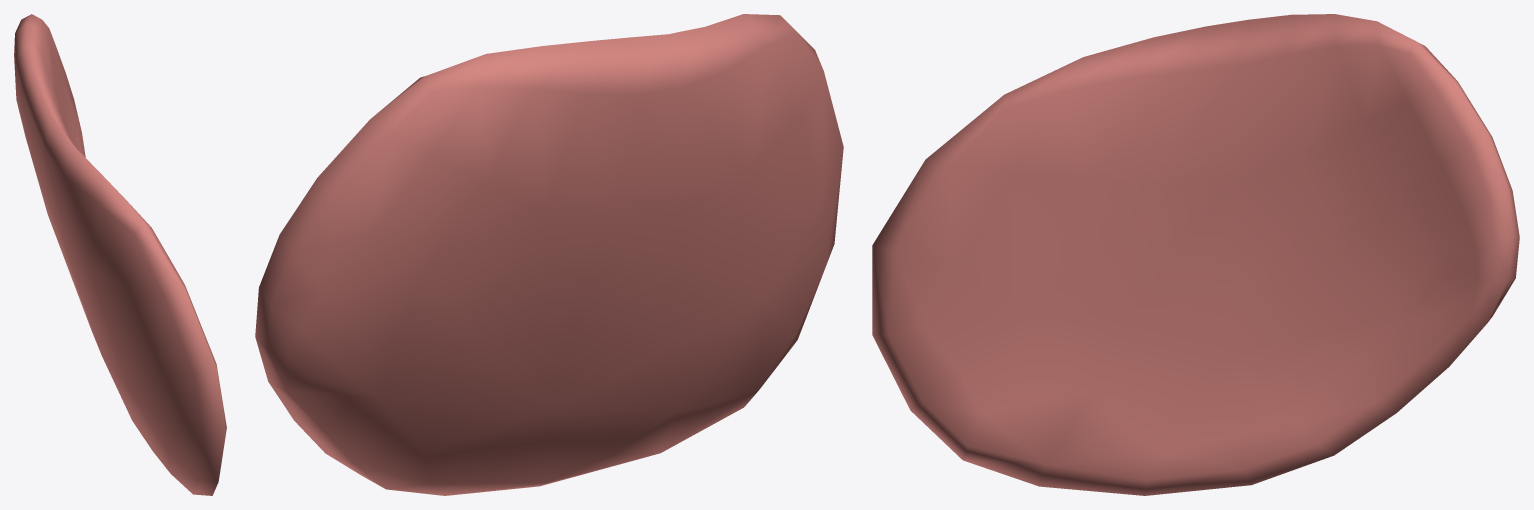
3 renders of one model, left to right at view 1: azimuth 30°, elevation 25°; view 2: azimuth 150°, elevation 25°; view 3: azimuth 270°, elevation 25°, orthographic. The views are drawn at different scales.
Visible parts, largest first — view 1: ZA_2300d9c7356c6f25; view 2: ZA_2300d9c7356c6f25; view 3: ZA_2300d9c7356c6f25.
Boxes of the visible parts, x1,y1,x2,y2 form: ZA_2300d9c7356c6f25: (14, 14, 226, 495); ZA_2300d9c7356c6f25: (255, 14, 843, 495); ZA_2300d9c7356c6f25: (872, 14, 1519, 495).
Size of the model in its own units: 0.00214 by 0.00467 by 0.0062.
